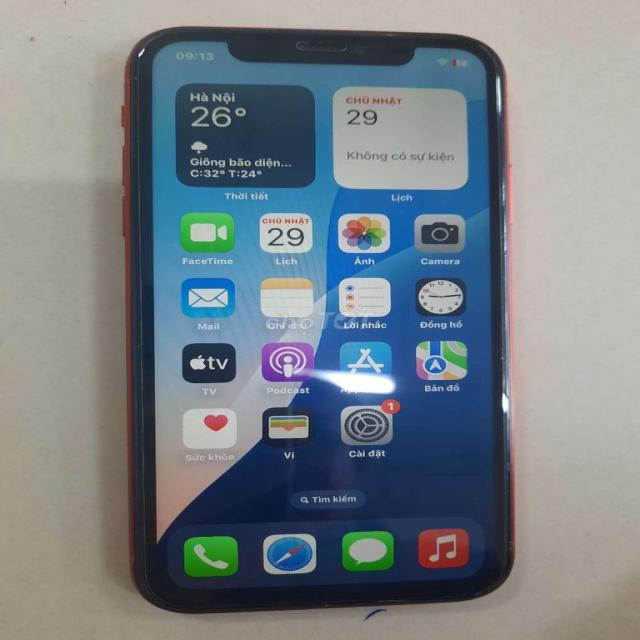scratch: (498, 529, 527, 559)
